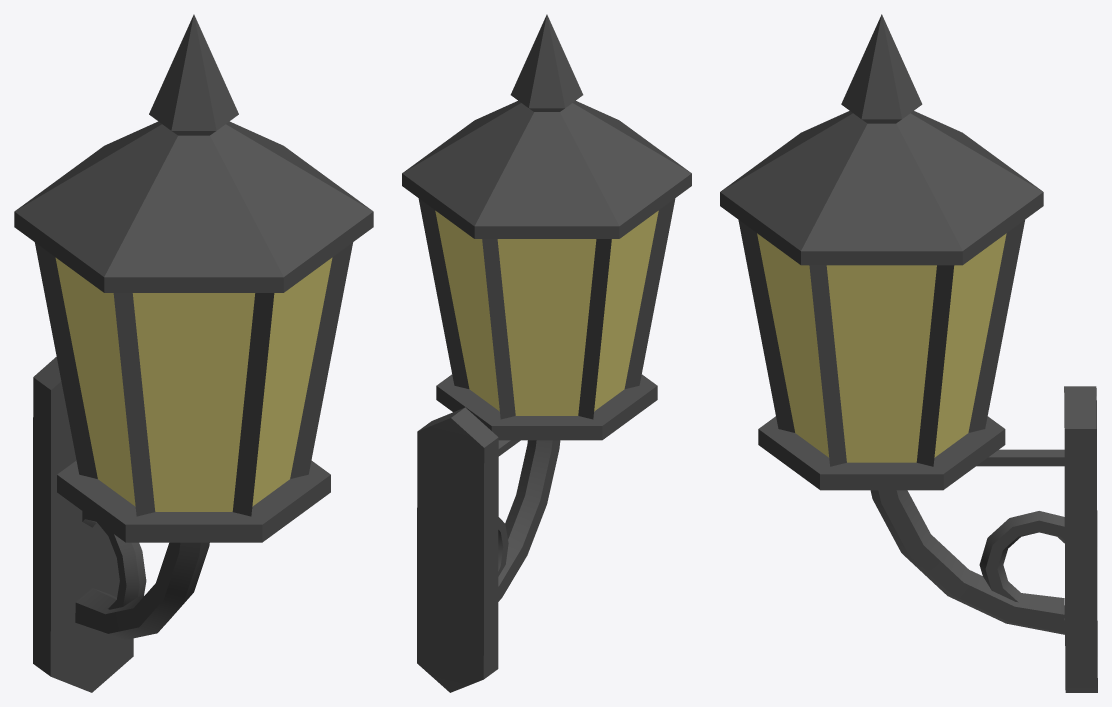
File: lamp_UV.fbx
The picture shows the model from 3 angles, left to right: view 1: azimuth 30°, elevation 25°; view 2: azimuth 150°, elevation 25°; view 3: azimuth 270°, elevation 25°; orthographic projection. The views are drawn at different scales.
Parts seen in each view (by area): view 1: Circle; view 2: Circle; view 3: Circle.
Part boxes in pixels (x1=…): Circle: x1=14, y1=14, x2=373, y2=692; Circle: x1=402, y1=14, x2=691, y2=692; Circle: x1=720, y1=14, x2=1097, y2=692.
Size of the model in its own units: 227 by 607 by 306.
